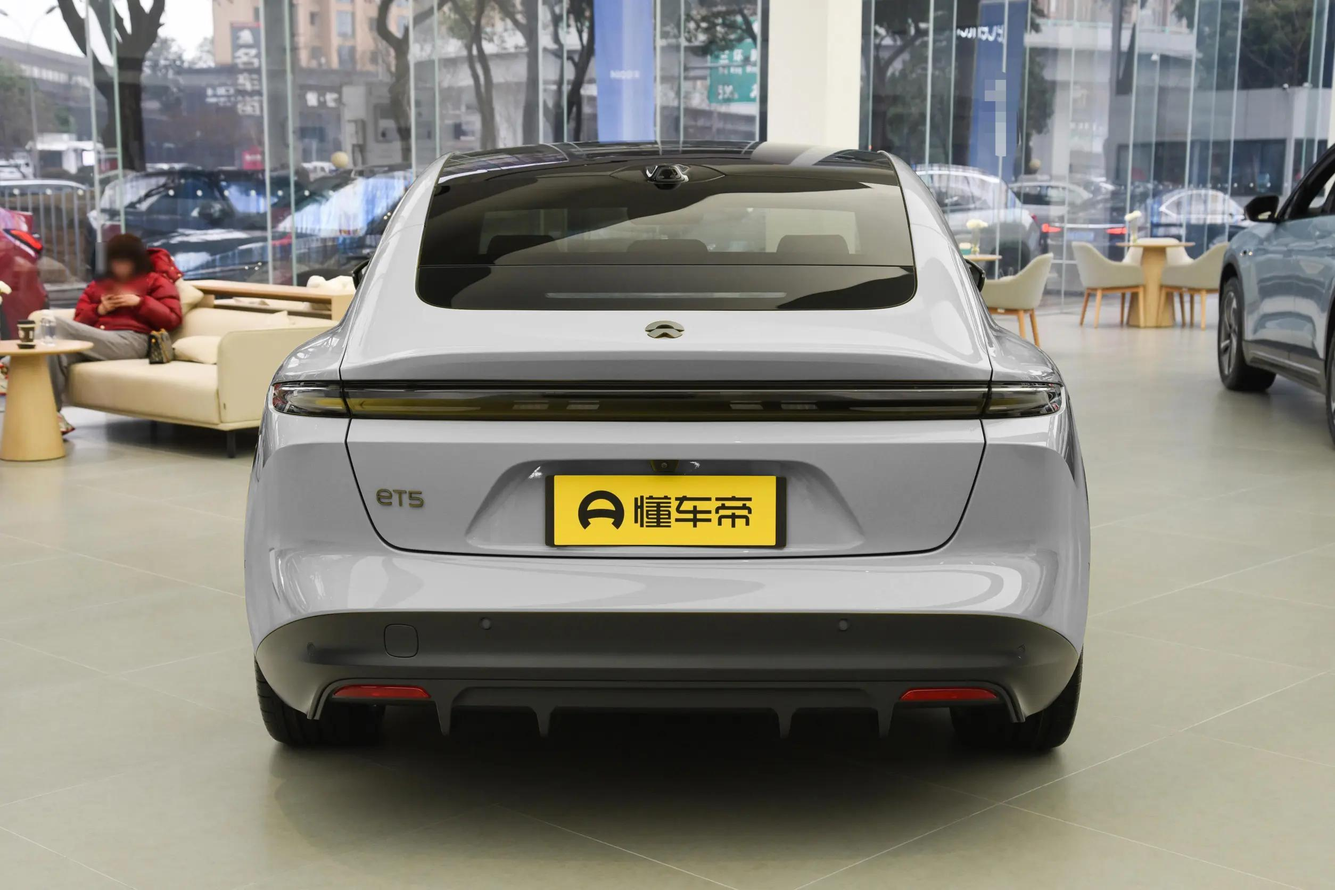NIO: (645, 320, 684, 339)
